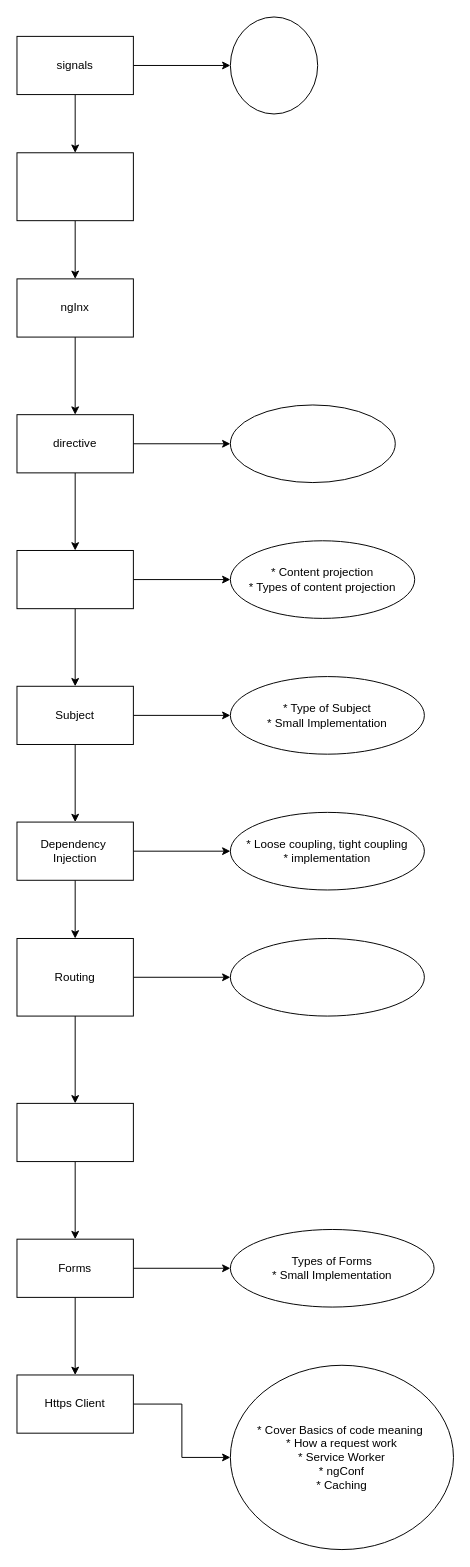
Some shapes in this 470 by 1567 pixel diagram are drawn without their labels. The shapes that lost their labels are listed below. From the top down, each one's centre as x and y in pixels, then its label:
(x=273, y=65): small component
(x=74, y=186): component life cycle hooks
(x=312, y=443): * types *small implementation
(x=74, y=579): template
(x=326, y=977): Basics of It Type Of If like canload
(x=74, y=1132): Decoratives
